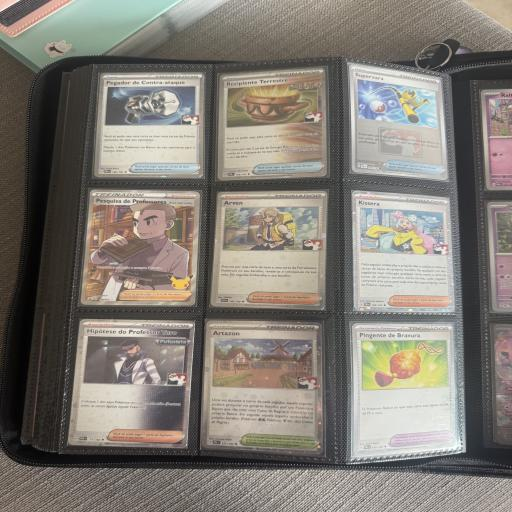card: (201, 318, 326, 455), (68, 318, 194, 448), (210, 187, 330, 310), (210, 67, 333, 185), (351, 322, 457, 455), (80, 190, 200, 306), (351, 189, 456, 314), (349, 63, 449, 182), (94, 71, 205, 178)
